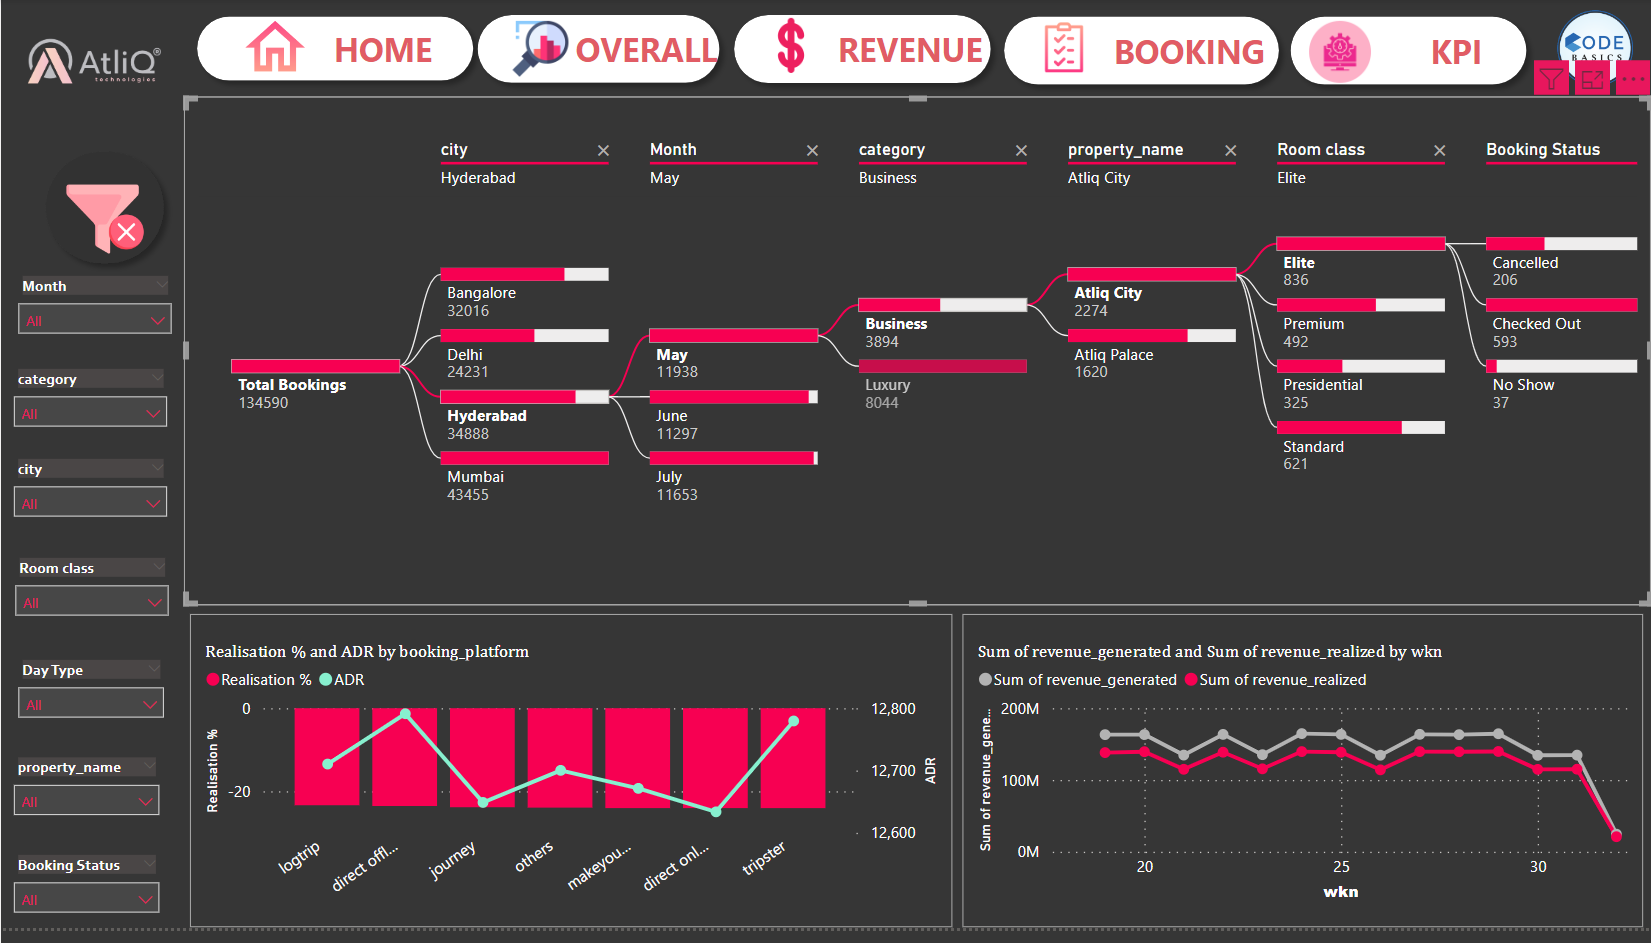

The page's visual inventory and layout, read from the dashboard file:
{"tool":"powerbi","page":{"name":"BOOKING","canvas":[1280,720],"ordinal":3},"visuals":[{"type":"group","id":"g1","title":"Group 1","box":[361.1,3,205.4,70.4],"z":0,"group":"g5"},{"type":"shape","title":"OVERALL","box":[361.1,3,205.4,70.4],"z":0,"group":"g1"},{"type":"shape","box":[558.7,3,216.8,70.6],"z":0,"group":"g9"},{"type":"shape","box":[143.2,5,231.9,67.6],"z":0,"group":"g4"},{"type":"shape","box":[768.9,5,230.9,70.6],"z":0,"group":"g6"},{"type":"group","id":"g2","title":"Group 1","box":[990.3,5,200.7,70.6],"z":0,"group":"g8"},{"type":"shape","box":[990.3,5,200.7,70.6],"z":0,"group":"g2"},{"type":"decompositionTreeVisual","fields":{"ExplainBy":["dim_hotels.city","dim_date.date.Variation.Date Hierarchy.Month","dim_hotels.category","dim_hotels.property_name","dim_rooms.Room class","fact_bookings.Booking Status"],"Analyze":["key_measures.Total Bookings"]},"box":[142.2,75.6,1137.5,394.3],"z":0},{"type":"shape","box":[26.1,108.9,109.6,104.5],"z":0,"group":"g10"},{"type":"image","box":[999.2,11.4,75.4,58],"z":1000,"group":"g8"},{"type":"image","box":[346.9,11.6,143.9,53.9],"z":1000,"group":"g5"},{"type":"lineStackedColumnComboChart","fields":{"Y":["key_measures.Realisation %"],"Y2":["key_measures.ADR"],"Category":["fact_bookings.booking_platform"]},"box":[146.4,476.5,590.4,242.9],"z":1000},{"type":"group","id":"g3","title":"Group 10","box":[0,108.9,142.2,610.1],"z":2000},{"type":"group","id":"g4","title":"Group 1","box":[143.2,5,231.9,67.6],"z":3000},{"type":"group","id":"g5","title":"Group 2","box":[346.9,3,219.8,70.6],"z":4000},{"type":"group","id":"g6","title":"Group 1","box":[745.2,5,254.1,70.6],"z":5000},{"type":"group","id":"g7","title":"Group 9","box":[558.7,3,216.8,70.6],"z":6000},{"type":"slicer","fields":{"Values":["dim_hotels.city"]},"box":[0,351.2,138.7,60.3],"z":6000,"group":"g3"},{"type":"group","id":"g8","title":"Group 11","box":[990.3,5,200.7,70.6],"z":7000},{"type":"slicer","fields":{"Values":["dim_date.day type"]},"box":[3,506,132.7,61.3],"z":7000,"group":"g3"},{"type":"image","box":[7.1,9.1,129.1,80.7],"z":8000},{"type":"slicer","fields":{"Values":["dim_rooms.room_class"]},"box":[1,427.6,138.7,65.3],"z":8000,"group":"g3"},{"type":"image","box":[1198,1,74.6,73.6],"z":9000},{"type":"slicer","fields":{"Values":["dim_hotels.property_name"]},"box":[0,582.4,132.7,60.3],"z":9000,"group":"g3"},{"type":"lineChart","fields":{"Y":["Sum(fact_bookings.revenue_generated)","Sum(fact_bookings.revenue_realized)"],"Category":["dim_date.wkn"]},"box":[745,476.5,527.7,242.9],"z":10000},{"type":"slicer","fields":{"Values":["fact_bookings.booking_status"]},"box":[0,657.8,132.7,61.3],"z":10000,"group":"g3"},{"type":"image","box":[46.2,132,70.4,75.4],"z":12000,"group":"g10"},{"type":"group","id":"g9","title":"Group 1","box":[558.7,3,216.8,70.6],"z":13000,"group":"g7"},{"type":"slicer","fields":{"Values":["dim_hotels.category"]},"box":[0,280.8,138.7,60.3],"z":20000,"group":"g3"},{"type":"slicer","fields":{"Values":["dim_date.date.Variation.Date Hierarchy.Month"]},"box":[3,208.4,138.7,60.3],"z":21000,"group":"g3"},{"type":"group","id":"g10","title":"Group 8","box":[26.1,108.9,109.6,104.5],"z":22000,"group":"g3"},{"type":"image","box":[573.6,9.3,75.9,53.2],"z":24001,"group":"g7"},{"type":"image","box":[745.2,12.8,157.3,49.3],"z":25001,"group":"g6"},{"type":"image","title":"HOME","box":[153.1,5,118,65.5],"z":26000,"group":"g4"}]}

Visuals, with their boxes on the page's 1280x720 design canvas (x1, y1, x2, y2). These are canvas units, not pixel positions in the 1651x943 screenshot, which may show the page scaled, cropped or inside an application window:
"Group 1" group: crop(361, 3, 566, 73)
"OVERALL" shape: crop(361, 3, 566, 73)
shape: crop(559, 3, 776, 74)
shape: crop(143, 5, 375, 73)
shape: crop(769, 5, 1000, 76)
"Group 1" group: crop(990, 5, 1191, 76)
shape: crop(990, 5, 1191, 76)
decompositionTreeVisual - dim_hotels.city x dim_date.date.Variation.Date Hierarchy.Month: crop(142, 76, 1280, 470)
shape: crop(26, 109, 136, 213)
image: crop(999, 11, 1075, 69)
image: crop(347, 12, 491, 66)
lineStackedColumnComboChart - key_measures.Realisation % x key_measures.ADR: crop(146, 476, 737, 719)
"Group 10" group: crop(0, 109, 142, 719)
"Group 1" group: crop(143, 5, 375, 73)
"Group 2" group: crop(347, 3, 567, 74)
"Group 1" group: crop(745, 5, 999, 76)
"Group 9" group: crop(559, 3, 776, 74)
slicer - dim_hotels.city: crop(0, 351, 139, 412)
"Group 11" group: crop(990, 5, 1191, 76)
slicer - dim_date.day type: crop(3, 506, 136, 567)
image: crop(7, 9, 136, 90)
slicer - dim_rooms.room_class: crop(1, 428, 140, 493)
image: crop(1198, 1, 1273, 75)
slicer - dim_hotels.property_name: crop(0, 582, 133, 643)
lineChart - Sum(fact_bookings.revenue_generated) x Sum(fact_bookings.revenue_realized): crop(745, 476, 1273, 719)
slicer - fact_bookings.booking_status: crop(0, 658, 133, 719)
image: crop(46, 132, 117, 207)
"Group 1" group: crop(559, 3, 776, 74)
slicer - dim_hotels.category: crop(0, 281, 139, 341)
slicer - dim_date.date.Variation.Date Hierarchy.Month: crop(3, 208, 142, 269)
"Group 8" group: crop(26, 109, 136, 213)
image: crop(574, 9, 650, 62)
image: crop(745, 13, 902, 62)
"HOME" image: crop(153, 5, 271, 70)
